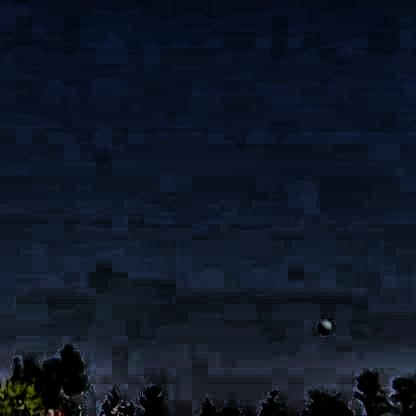golfball: (314, 315, 329, 333)
